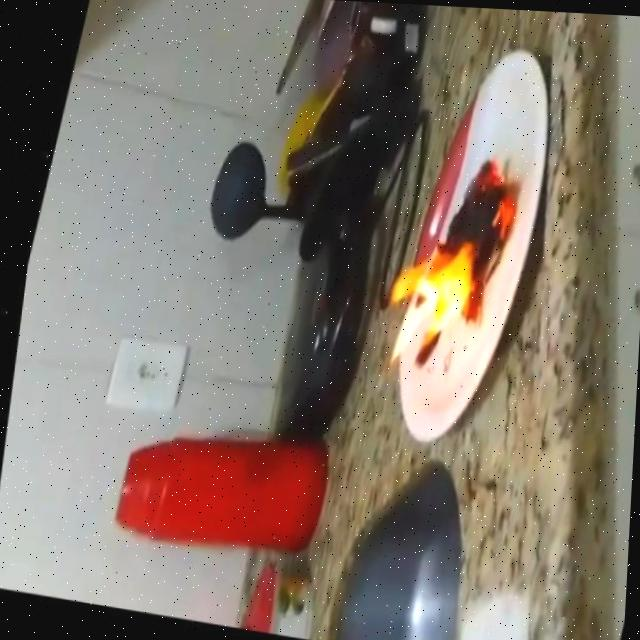fire: (366, 144, 522, 389)
